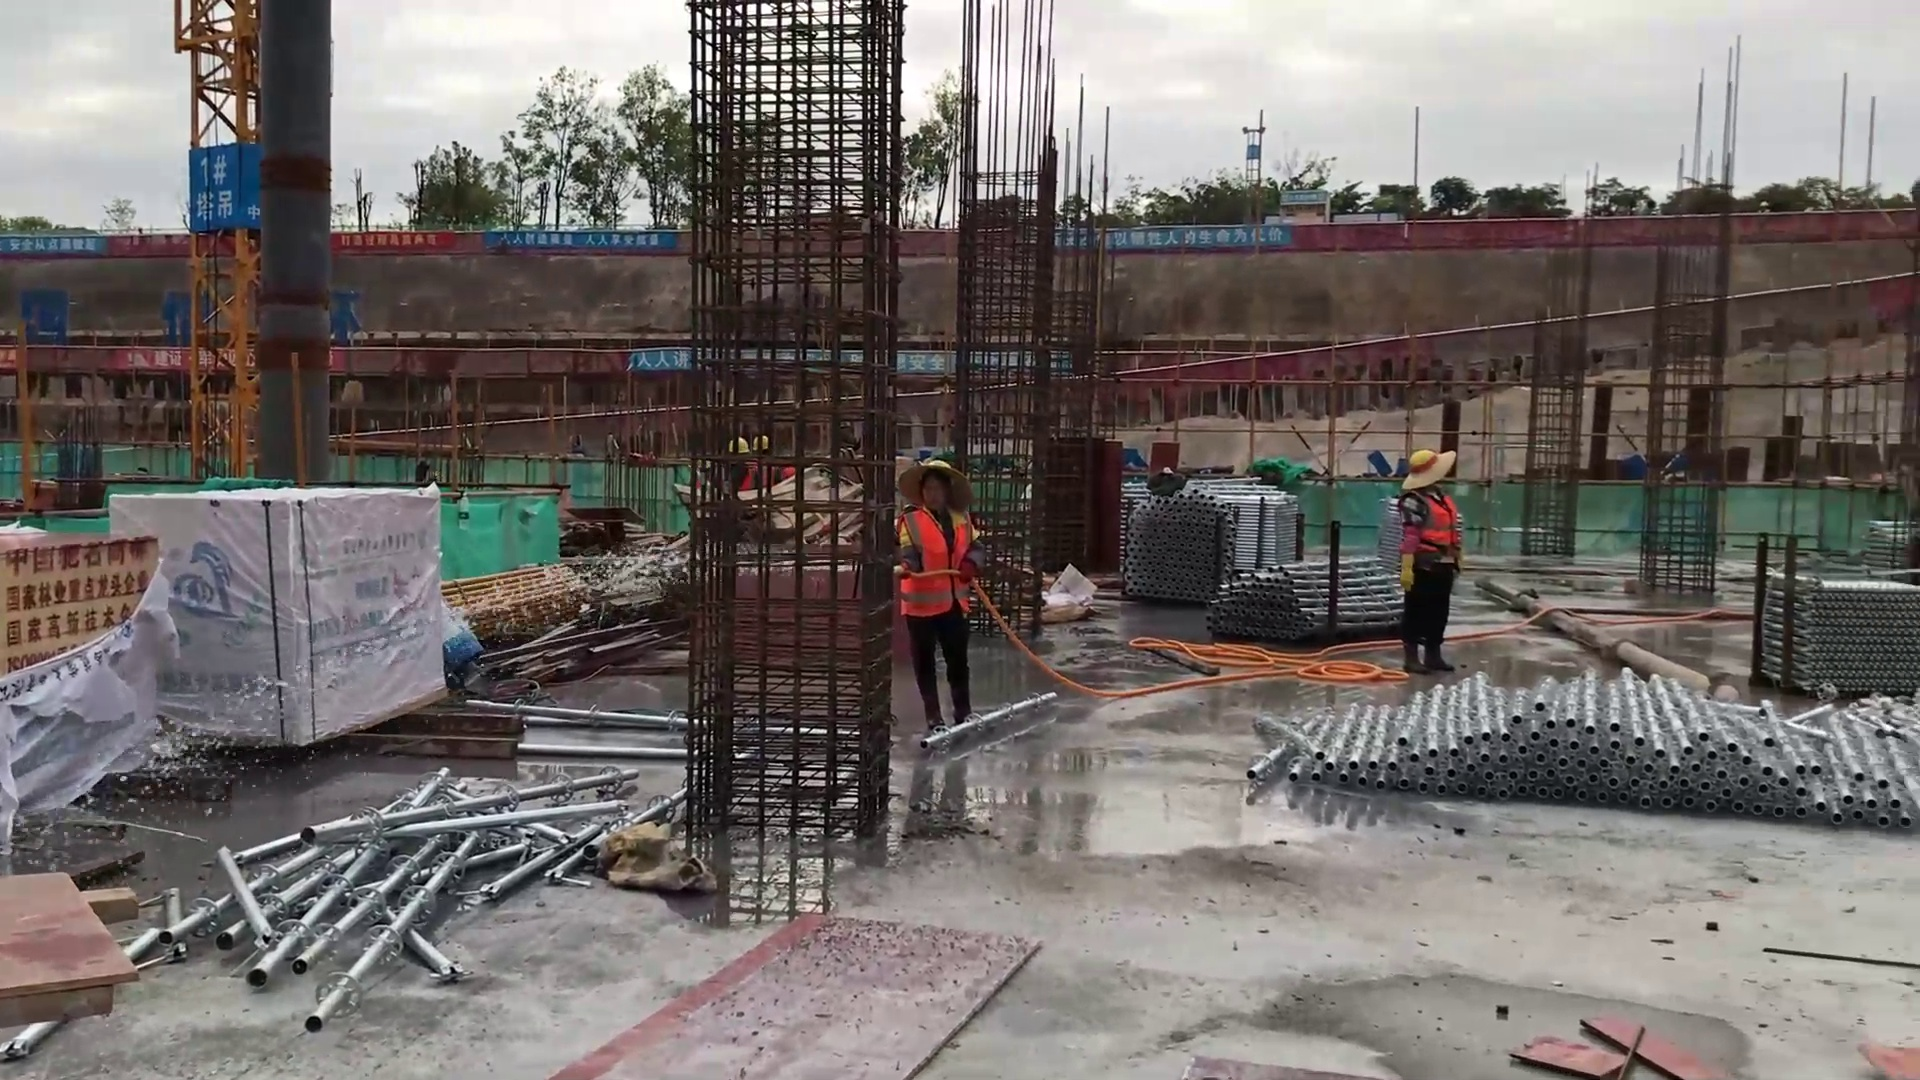fence: (1314, 211, 1916, 246)
helmet: (901, 458, 974, 507), (1401, 449, 1454, 492), (724, 433, 750, 452), (752, 436, 770, 452)
person: (900, 454, 981, 731), (1396, 436, 1458, 676), (709, 436, 759, 494), (751, 434, 797, 484)
scaffold: (1266, 676, 1918, 827), (1111, 461, 1298, 576), (1788, 566, 1918, 694), (1231, 552, 1376, 624), (1863, 531, 1920, 580)
slogan: (1118, 216, 1281, 244), (478, 224, 644, 242), (323, 229, 453, 252), (123, 346, 194, 374), (21, 236, 96, 257), (643, 337, 688, 364)
vest: (898, 518, 971, 621), (1404, 488, 1456, 568), (717, 459, 754, 486), (762, 456, 797, 480)
